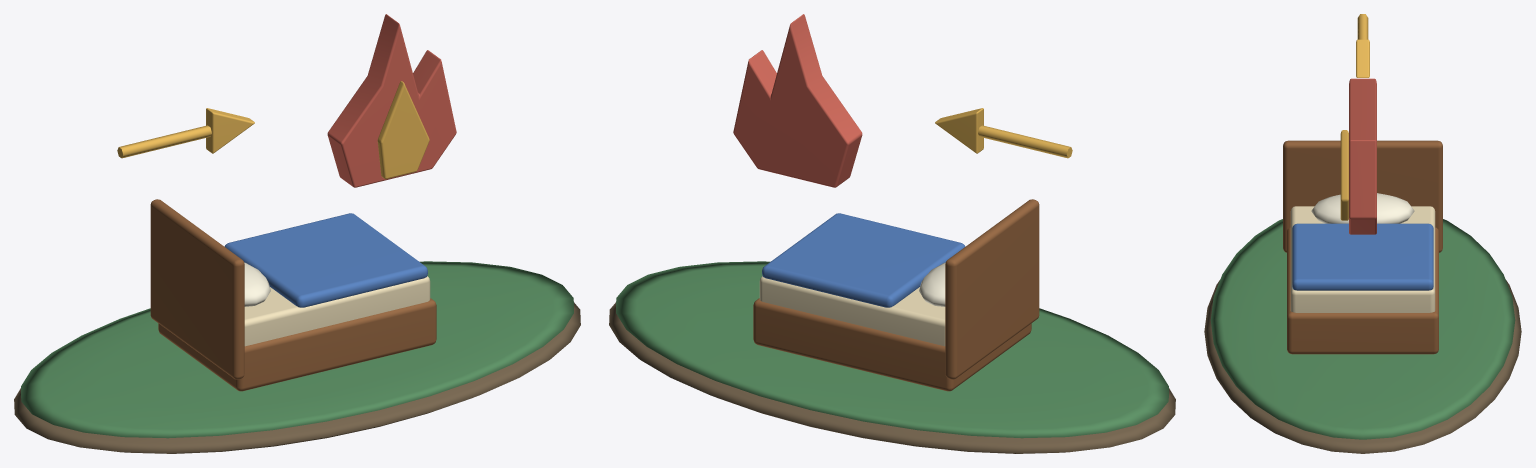
The model's file is fever-heat.glb.
3 views of the same model, side by side, from view 1: azimuth 30°, elevation 25°; view 2: azimuth 150°, elevation 25°; view 3: azimuth 270°, elevation 25° (orthographic). The views are drawn at different scales.
Visible parts, largest first — view 1: fever-heat_surface_01, fever-heat_surface_04, fever-heat_surface_06, fever-heat_surface_03, fever-heat_surface_00, fever-heat_surface_02, fever-heat_surface_05, fever-heat_surface_07; view 2: fever-heat_surface_01, fever-heat_surface_04, fever-heat_surface_03, fever-heat_surface_06, fever-heat_surface_00, fever-heat_surface_05, fever-heat_surface_02, fever-heat_surface_07; view 3: fever-heat_surface_01, fever-heat_surface_04, fever-heat_surface_06, fever-heat_surface_00, fever-heat_surface_05, fever-heat_surface_03, fever-heat_surface_02, fever-heat_surface_07.
Part boxes in pixels (bbox=[...]): fever-heat_surface_01: bbox=[21, 261, 573, 438]; fever-heat_surface_04: bbox=[150, 199, 436, 391]; fever-heat_surface_06: bbox=[224, 213, 427, 307]; fever-heat_surface_03: bbox=[327, 14, 456, 187]; fever-heat_surface_00: bbox=[14, 302, 580, 453]; fever-heat_surface_02: bbox=[117, 81, 429, 179]; fever-heat_surface_05: bbox=[244, 276, 430, 346]; fever-heat_surface_07: bbox=[244, 262, 270, 306]; fever-heat_surface_01: bbox=[616, 261, 1168, 438]; fever-heat_surface_04: bbox=[753, 199, 1039, 391]; fever-heat_surface_03: bbox=[733, 14, 862, 187]; fever-heat_surface_06: bbox=[762, 213, 965, 307]; fever-heat_surface_00: bbox=[609, 302, 1175, 453]; fever-heat_surface_05: bbox=[759, 276, 945, 346]; fever-heat_surface_02: bbox=[935, 108, 1072, 158]; fever-heat_surface_07: bbox=[919, 262, 945, 306]; fever-heat_surface_01: bbox=[1210, 219, 1515, 439]; fever-heat_surface_04: bbox=[1283, 140, 1442, 354]; fever-heat_surface_06: bbox=[1292, 223, 1433, 290]; fever-heat_surface_00: bbox=[1204, 280, 1521, 453]; fever-heat_surface_05: bbox=[1290, 206, 1435, 312]; fever-heat_surface_03: bbox=[1349, 78, 1376, 234]; fever-heat_surface_02: bbox=[1340, 14, 1369, 220]; fever-heat_surface_07: bbox=[1311, 193, 1414, 223].
Size of the model in its own units: 4.56 by 2.7 by 2.5.
